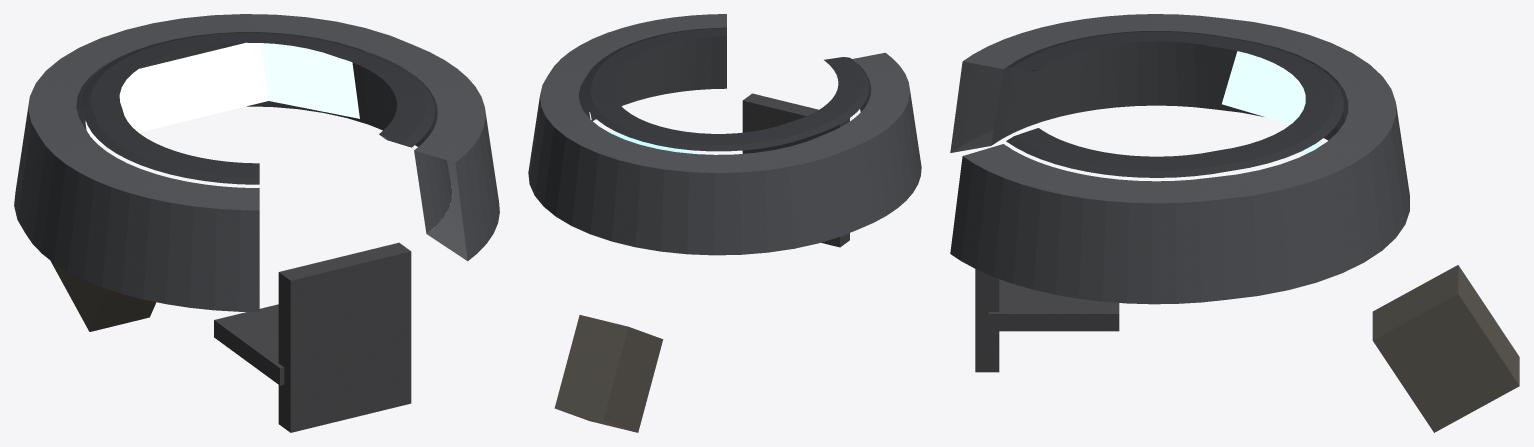
Rendered from cockpit.glb.
3 views of the same model, side by side, from view 1: azimuth 30°, elevation 25°; view 2: azimuth 150°, elevation 25°; view 3: azimuth 270°, elevation 25° (orthographic). The views are drawn at different scales.
Visible parts, largest first — view 1: Cockpit Coaming, Cockpit Seat Back, Cockpit Glareshield, Cockpit MFD Center, Cockpit MFD Starboard, Cockpit Seat Pan, Cockpit Pedestal; view 2: Cockpit Coaming, Cockpit Glareshield, Cockpit Pedestal, Cockpit Seat Back; view 3: Cockpit Coaming, Cockpit Pedestal, Cockpit Glareshield, Cockpit Seat Pan, Cockpit MFD Port, Cockpit Seat Back.
Boxes of the visible parts, x1,y1,x2,y2 form: Cockpit Coaming: (14,14,499,312); Cockpit Seat Back: (278,242,411,432); Cockpit Glareshield: (81,32,434,184); Cockpit MFD Center: (119,42,268,132); Cockpit MFD Starboard: (261,43,359,118); Cockpit Seat Pan: (214,304,284,385); Cockpit Pedestal: (50,260,156,331); Cockpit Coaming: (528,14,921,255); Cockpit Glareshield: (583,27,869,151); Cockpit Pedestal: (554,315,663,432); Cockpit Seat Back: (742,93,849,247); Cockpit Coaming: (950,14,1409,304); Cockpit Pedestal: (1372,265,1519,432); Cockpit Glareshield: (1006,30,1343,177); Cockpit Seat Pan: (988,279,1119,331); Cockpit MFD Port: (1222,51,1305,124); Cockpit Seat Back: (975,269,999,372).
Size of the model in its own units: 2 by 1.48 by 2.39.
Materials: 5 (4 with a texture image).
